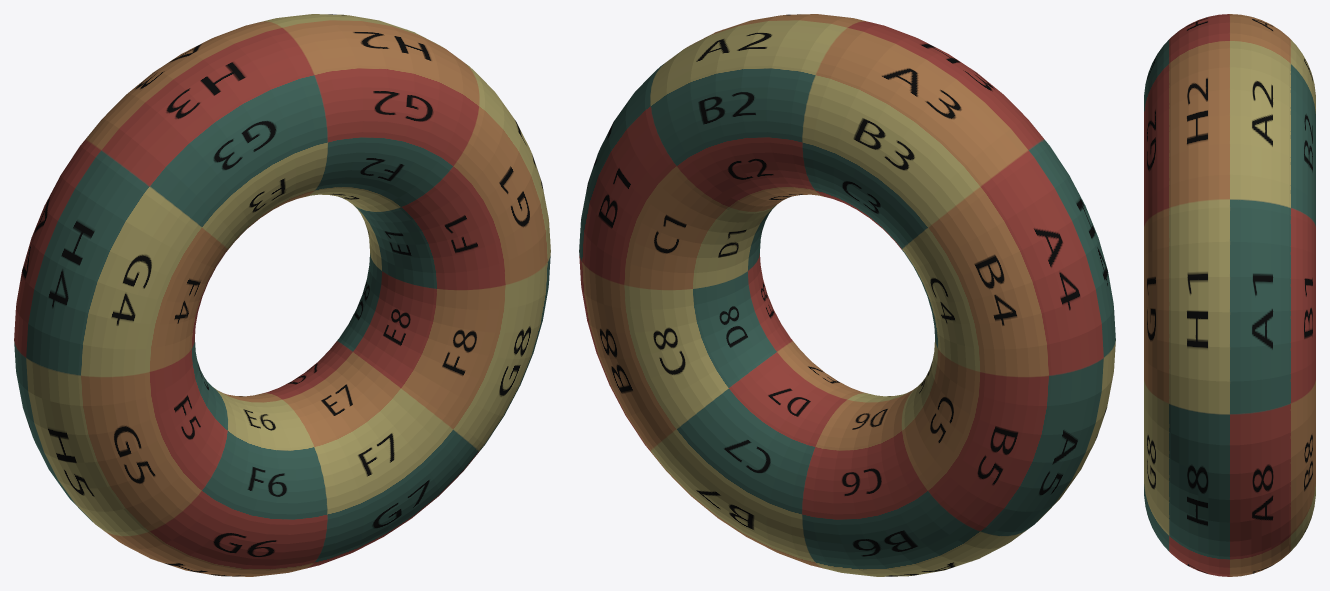
The model's file is texture_torus_R0_r9.glb.
The picture shows the model from 3 angles, left to right: view 1: azimuth 30°, elevation 25°; view 2: azimuth 150°, elevation 25°; view 3: azimuth 270°, elevation 25°; orthographic projection. The views are drawn at different scales.
Visible parts, largest first — view 1: world; view 2: world; view 3: world.
Part boxes in pixels (x1,y1,x2,y2): world: (14, 14, 550, 576); world: (579, 14, 1115, 576); world: (1144, 14, 1315, 576).
Bounding box in the file's own units: 14.4 × 14.37 × 4.39.
1 material, 1 textured.
